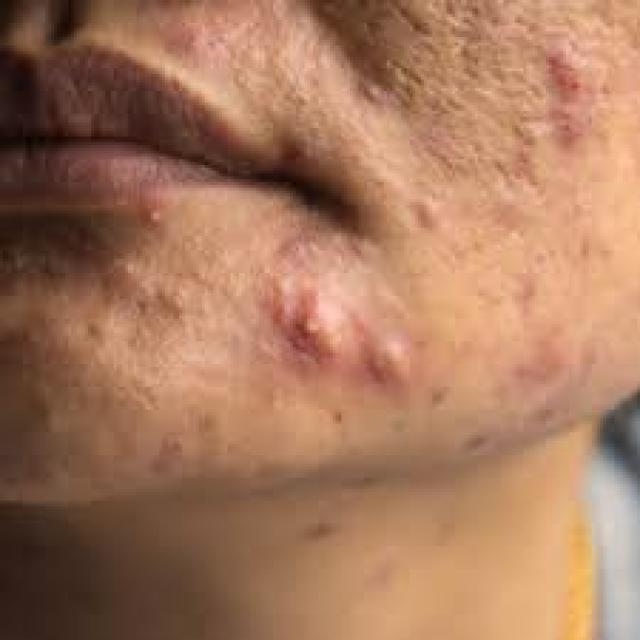Acne: (77, 264, 445, 402), (479, 21, 615, 180)
